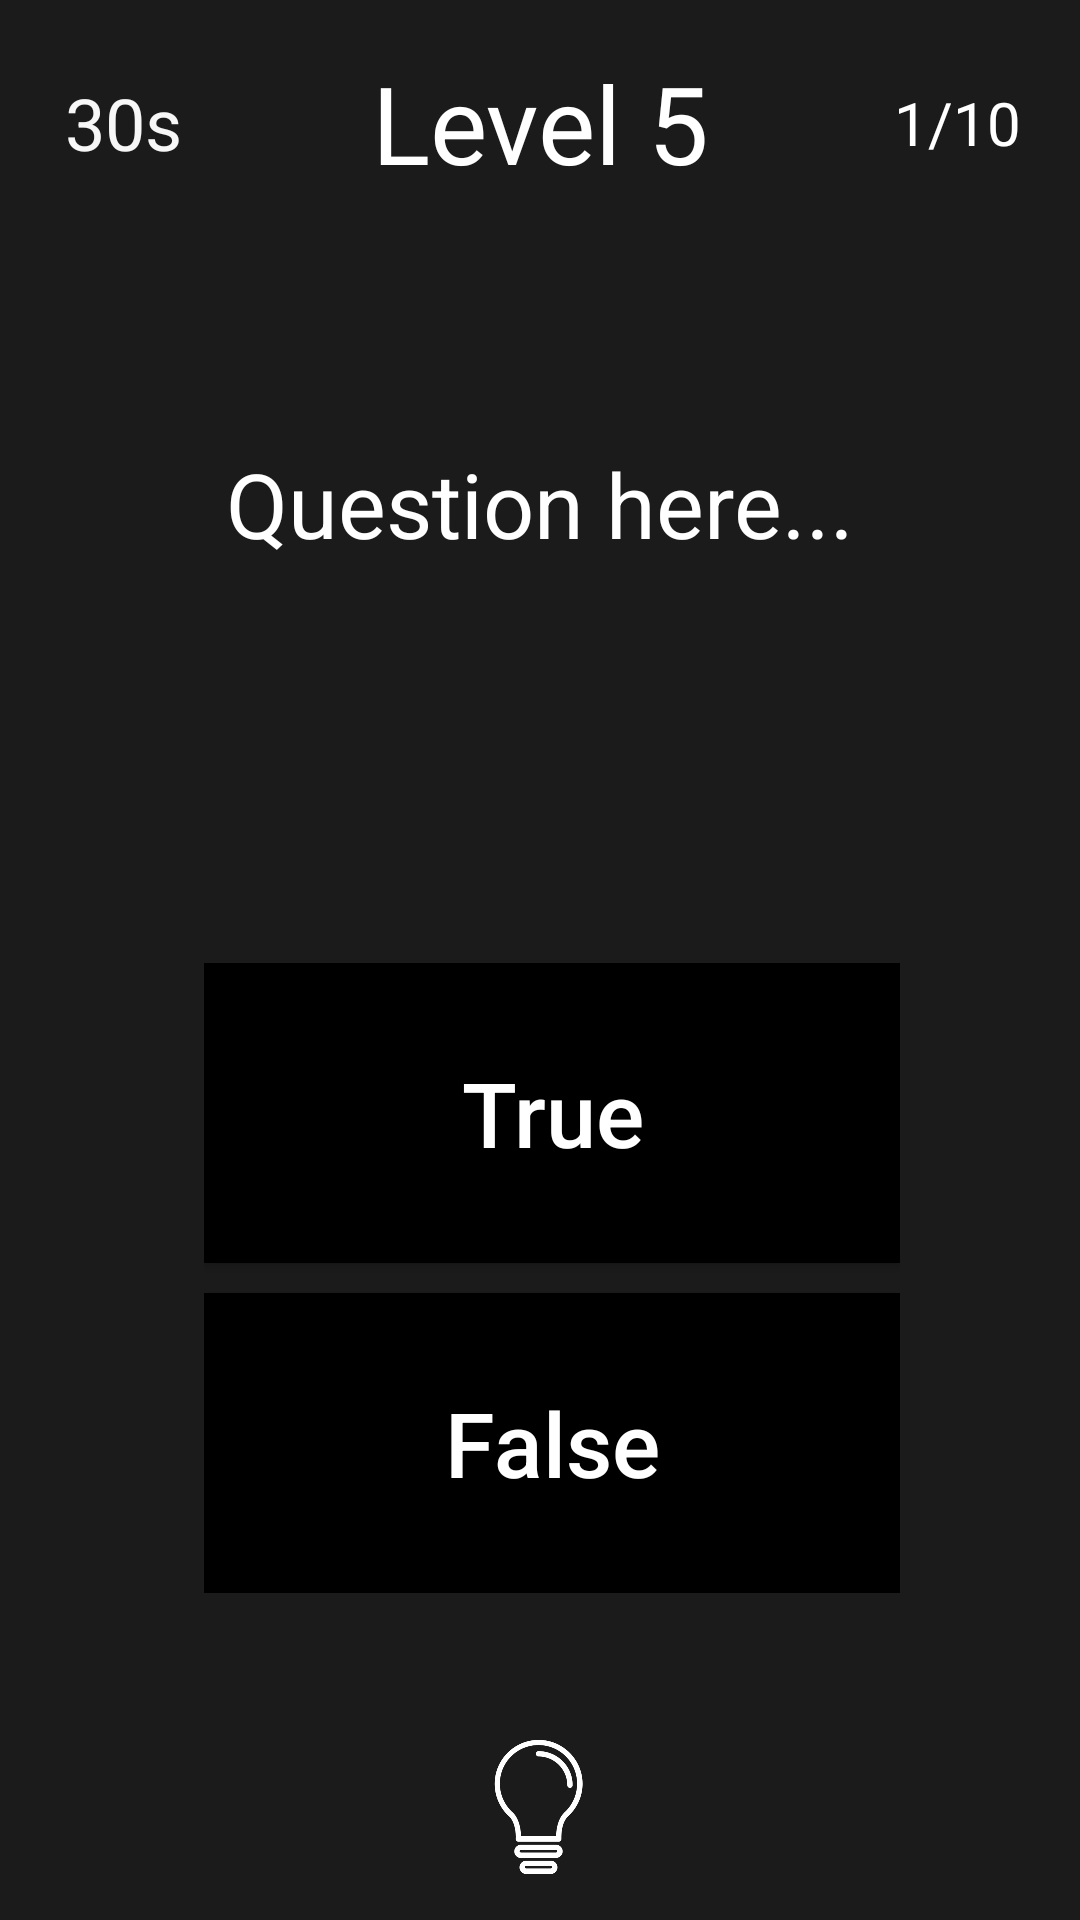

Icons on this 1080 × 1920 Android screen, each with its box as (x1, y1, x2, y2):
bulb: (494, 1740, 583, 1874)
